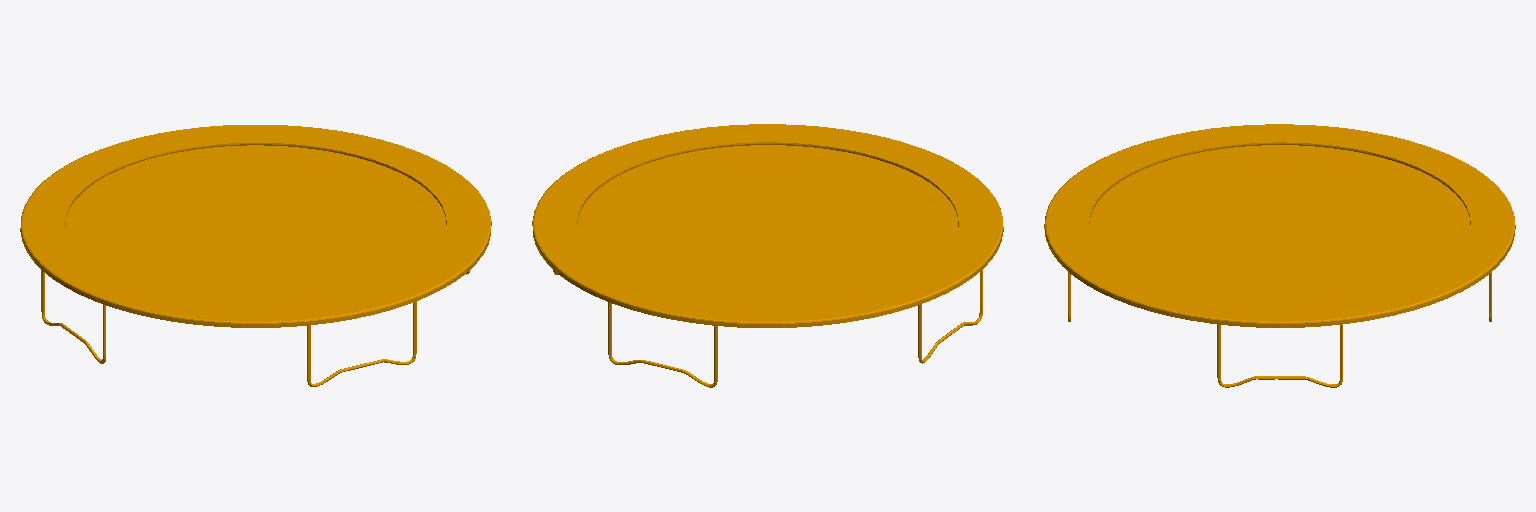
The robot description file, URDF, robot "none":
<robot name="none">
       <link name="none">
           <visual>
               <origin rpy="1.57 0 0" xyz="0 0 0" />
               <geometry>
                   <mesh filename="trampoline.obj" />
               </geometry>
           </visual>
          <collision>
              <geometry>
                  <box size="1.000000 0.177441 1.000000" />
              </geometry>
          </collision>

          <inertial>
            <mass value="0.0" />
            <inertia ixx="0.0" ixy="0.0" ixz="0.0" iyy="0.0" iyz="0.0" izz="0.0" />
          </inertial>
      </link>
  </robot>

--- What the picture shows (computed from the rendered views, not written in the file) ---
3 views of the same robot in one strip: view 1: azimuth 30°, elevation 25°; view 2: azimuth 150°, elevation 25°; view 3: azimuth 270°, elevation 25° (orthographic).
Model none with 1 links and 0 joints (none), rooted at none, posed all joints at 0.
Visible links, largest first — view 1: none; view 2: none; view 3: none.
Link boxes in pixels (x1=…): none: x1=20, y1=125, x2=491, y2=386; none: x1=532, y1=124, x2=1003, y2=387; none: x1=1044, y1=124, x2=1515, y2=387.
Bounding box of the posed robot: 1 × 1 × 0.1782 m (x, y, z).
Meshes: 1 distinct files referenced, 1 mesh visuals loaded (1 OBJ).